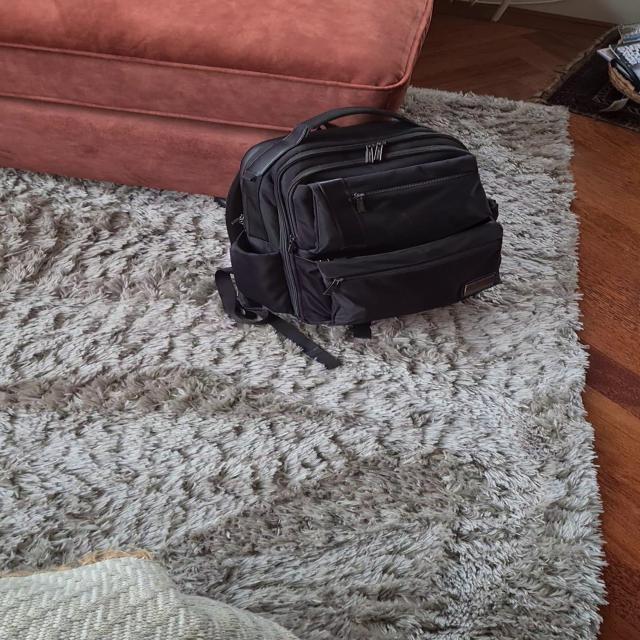backpack: (204, 102, 514, 338)
